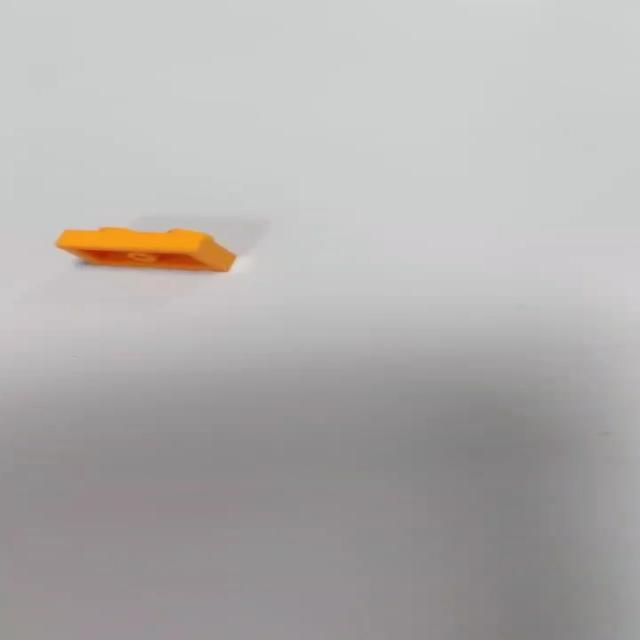C2x1x0: (51, 222, 242, 274)
